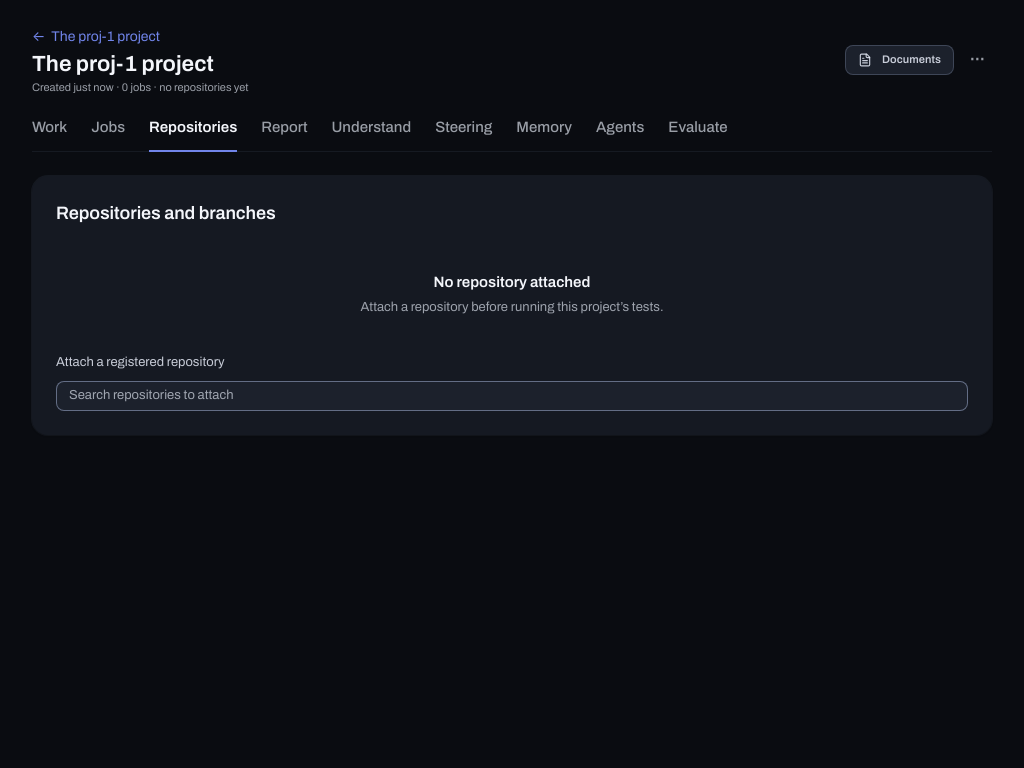
Test: ProjectDesk — Repositories section (studio#207) › a registry fetch failure clears on the retry gesture instead of outliving the load
Focus the field with test id "project-repo-search" at coordinates (512, 396), box [56,381,968,411]
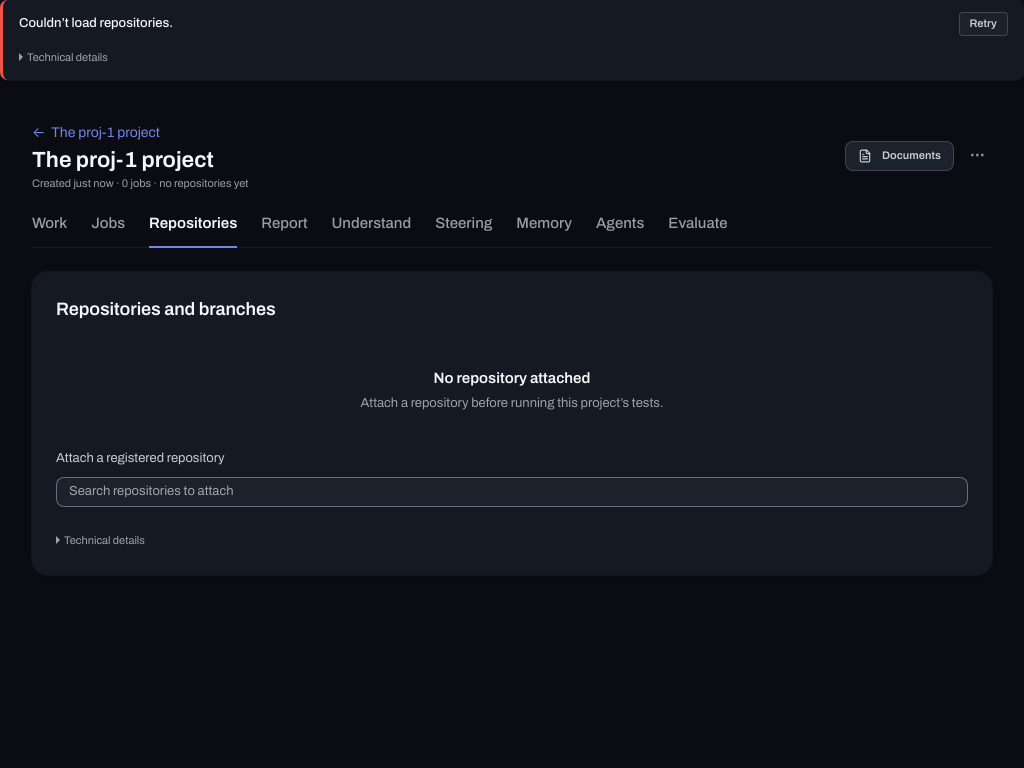
Focus the field with test id "project-repo-search" at coordinates (512, 492), box [56,477,968,507]
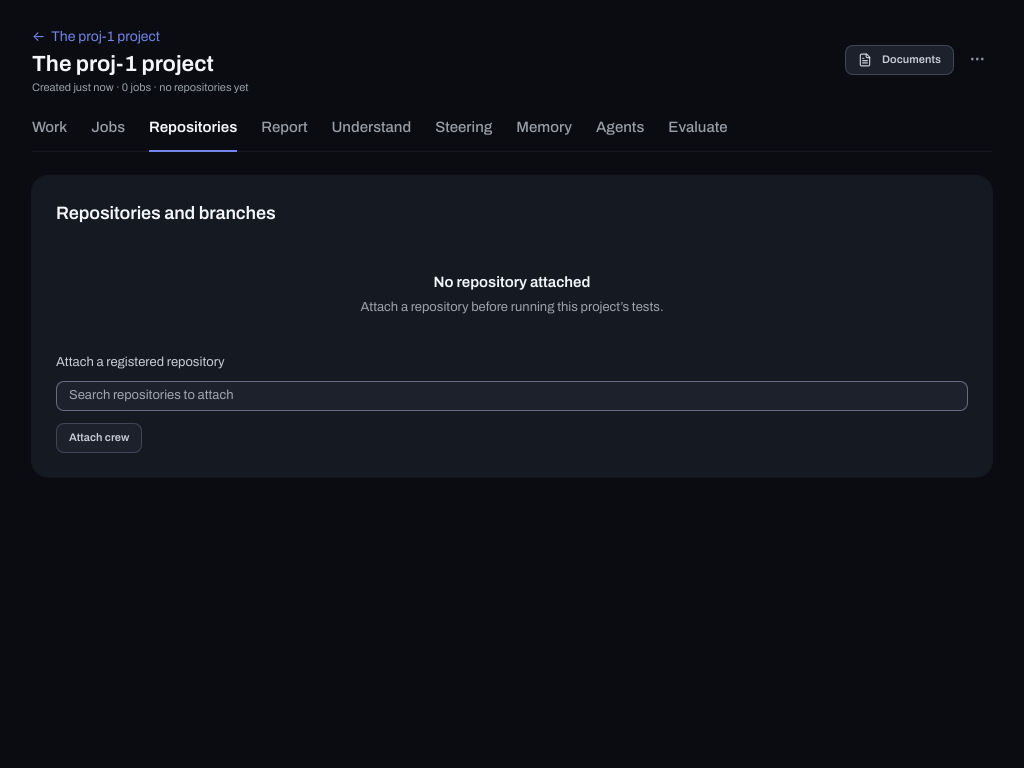
expect the element with test id "project-repo-error" is gone: met
